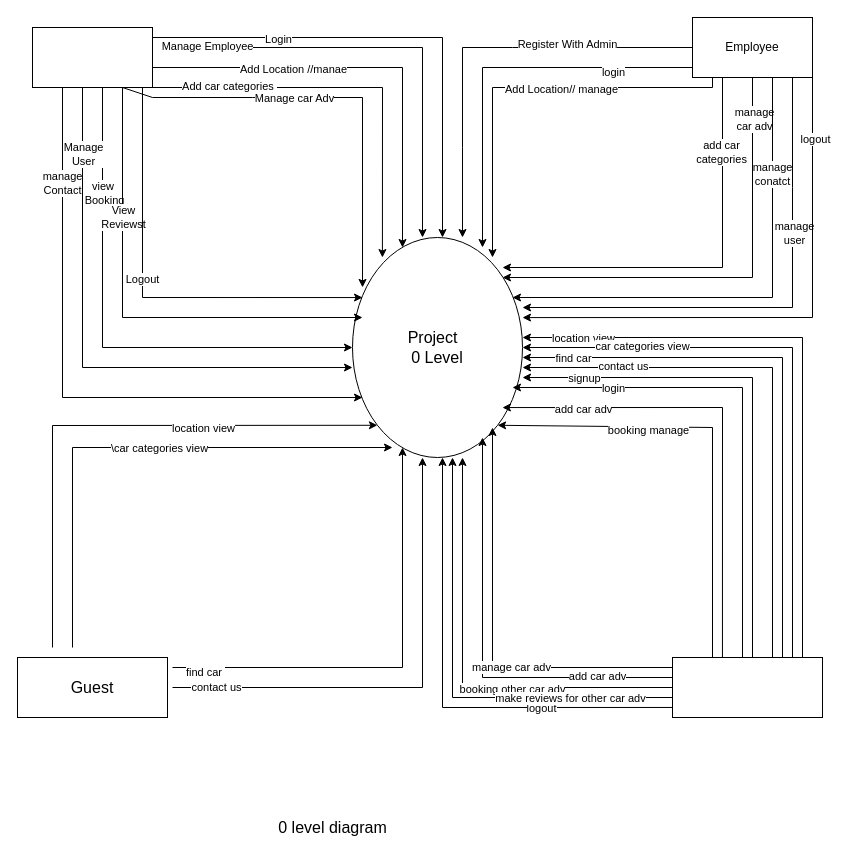
Some shapes in this 847 by 860 pixel diagram are drawn without their labels. Here are the shapes that lost their labels. From the top down, the centre of each, then its label:
point 92,57: Admin
point 747,687: User
